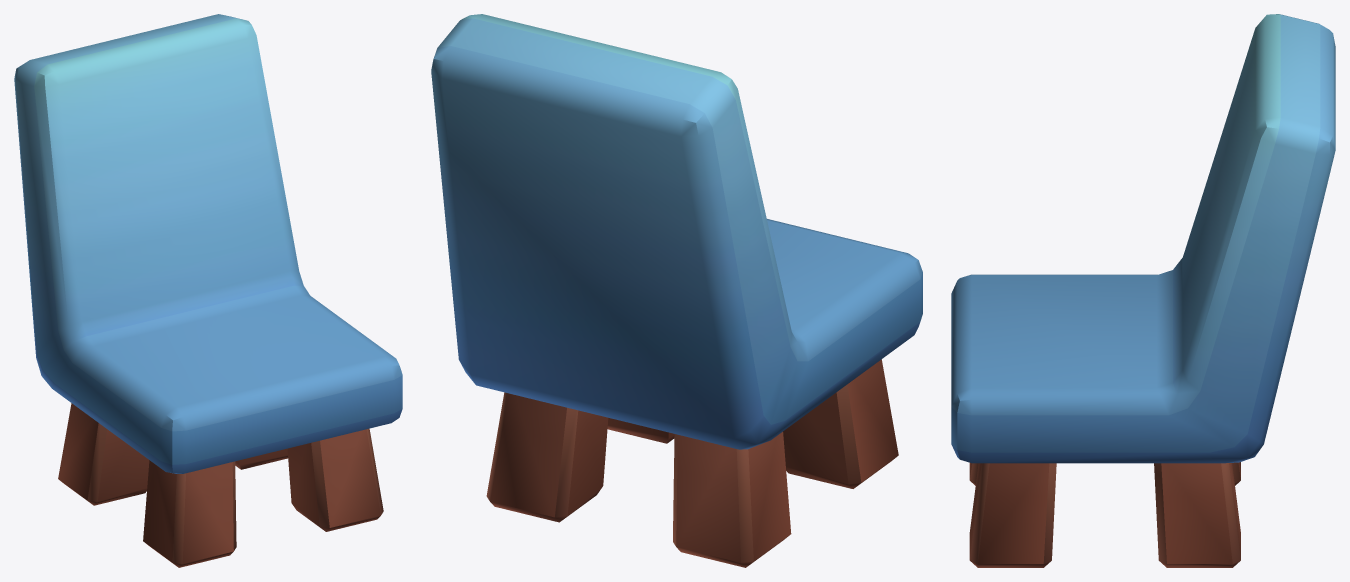
The model's file is kkf.chair_c.glb.
The picture shows the model from 3 angles, left to right: view 1: azimuth 30°, elevation 25°; view 2: azimuth 150°, elevation 25°; view 3: azimuth 270°, elevation 25°; orthographic projection. The views are drawn at different scales.
Parts seen in each view (by area): view 1: chair_C; view 2: chair_C; view 3: chair_C.
Boxes of the visible parts, <box> form: chair_C: <box>14,14,402,567</box>; chair_C: <box>431,14,922,567</box>; chair_C: <box>951,14,1335,567</box>.
Bounding box in the file's own units: 0.5366 × 0.8606 × 0.6694.
1 material, 1 textured.
